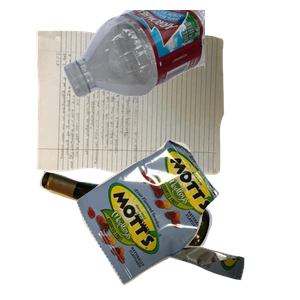glass: (37, 168, 242, 300)
paper: (32, 28, 249, 196)
plastic: (60, 10, 300, 100)
trash: (74, 137, 300, 300)
